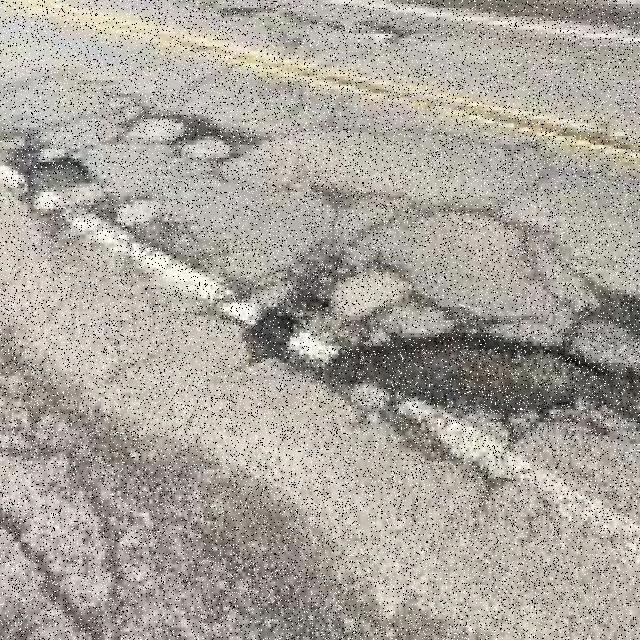pothole: (329, 346, 640, 428)
